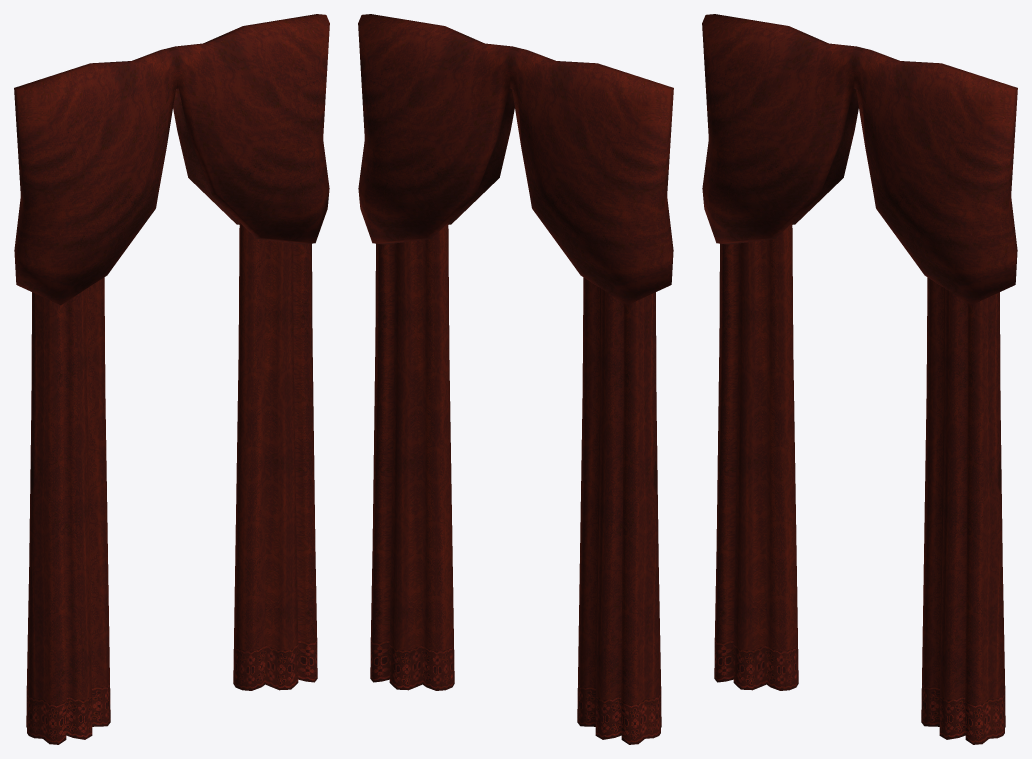
The model's file is curtains_long_new.DAE.
3 views of the same model, side by side, from view 1: azimuth 30°, elevation 25°; view 2: azimuth 150°, elevation 25°; view 3: azimuth 330°, elevation 25° (orthographic).
Parts seen in each view (by area): view 1: curtain_long_new; view 2: curtain_long_new; view 3: curtain_long_new.
Part boxes in pixels (x1,y1,x2,y2): curtain_long_new: (14,14,329,744); curtain_long_new: (358,14,673,744); curtain_long_new: (702,14,1017,744).
Bounding box in the file's own units: 2.59 × 0.6686 × 5.22.
